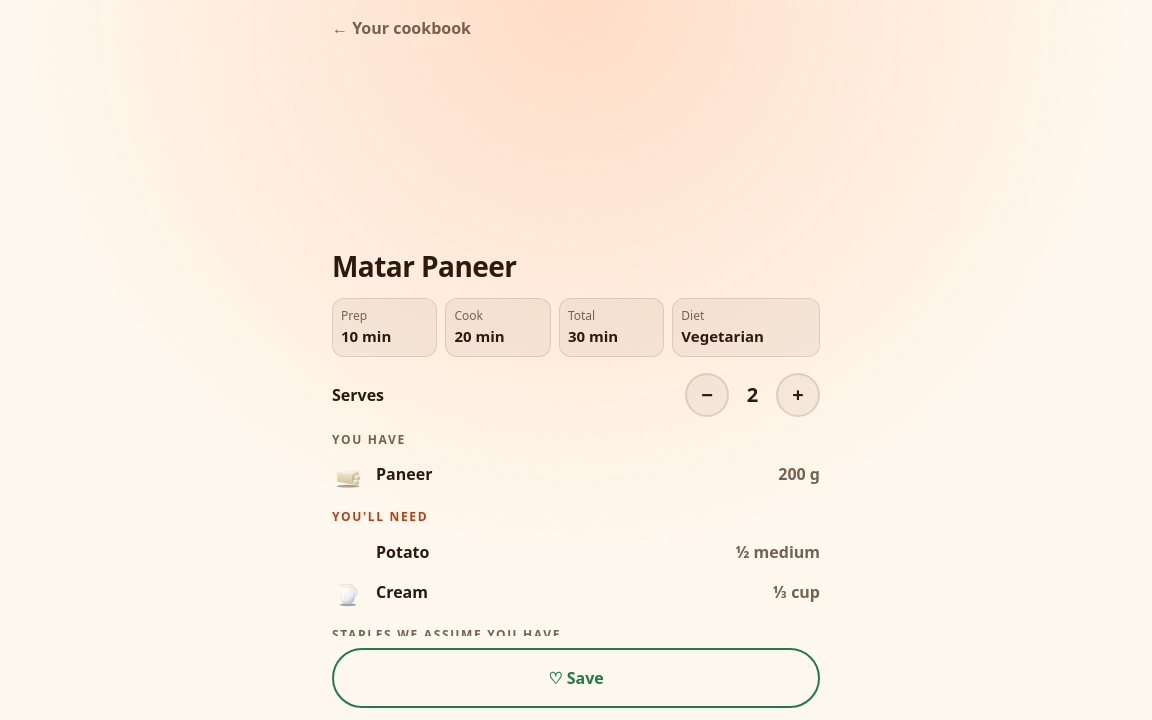
Test case: changing the servings scales every amount but to-taste ones
The image size is (1152, 720).
Click the button named "More servings": click(798, 395) [776, 373, 820, 417]
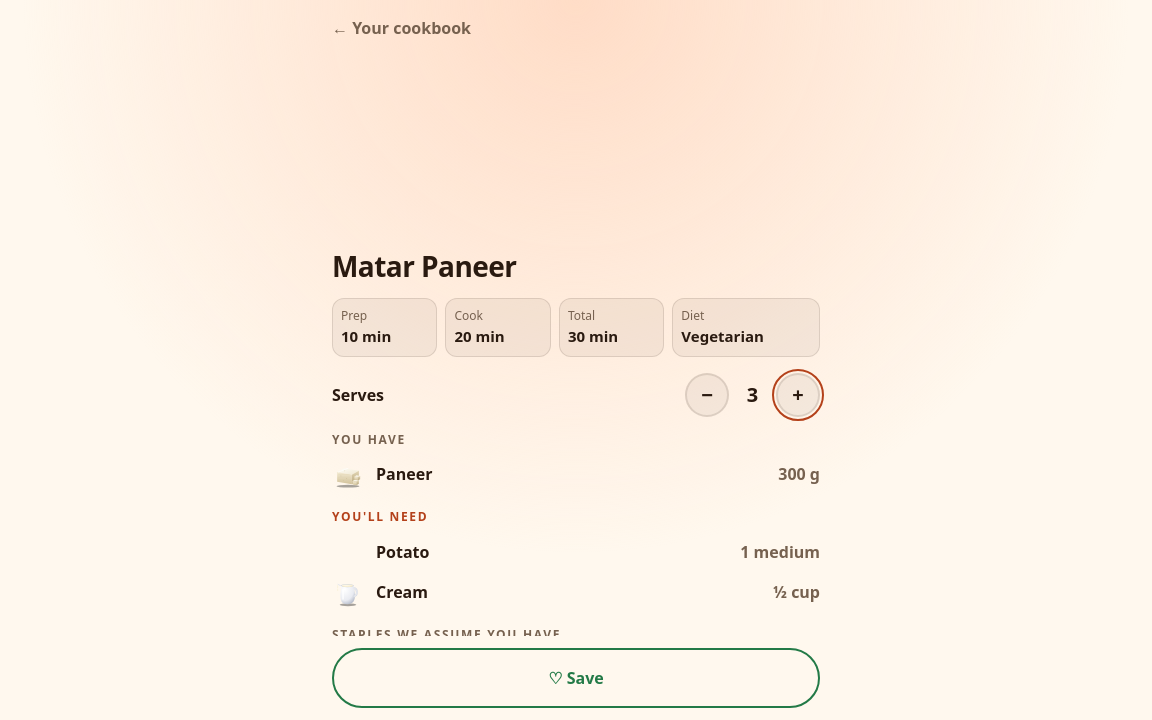
Click the button named "More servings": click(798, 395) [776, 373, 820, 417]
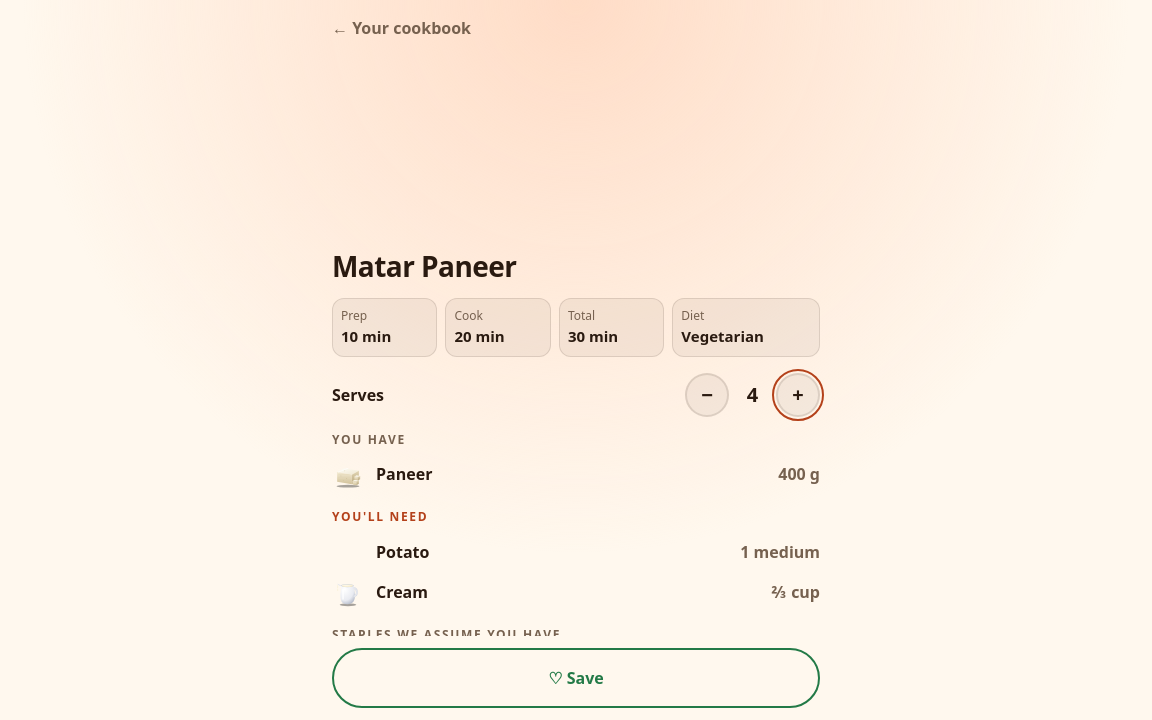
Click the button named "More servings": click(798, 395) [776, 373, 820, 417]
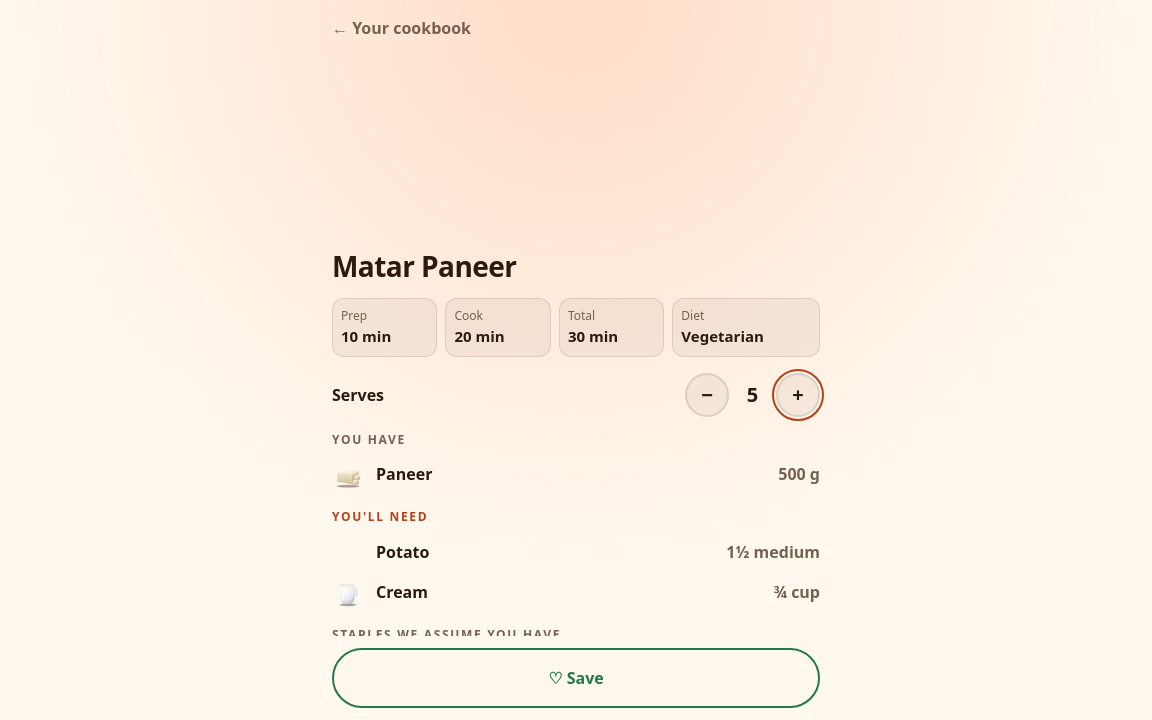
Now the element named "Servings" shows "5", box [747, 381, 758, 408]
